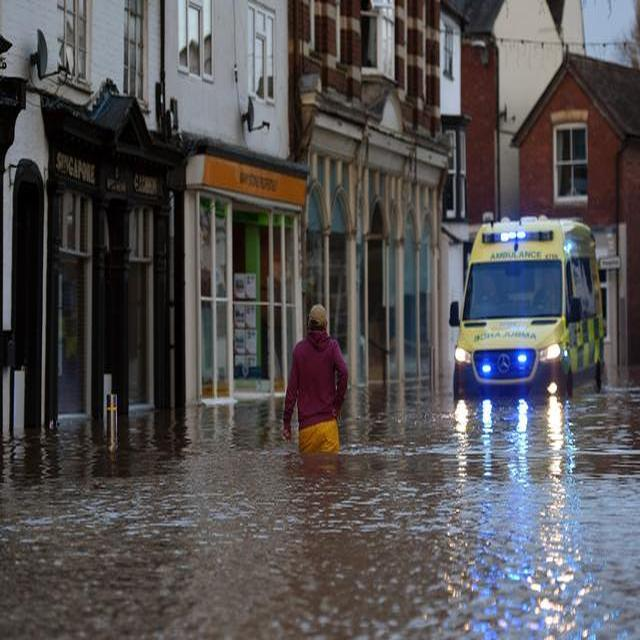Car-RiskLevel2: (447, 203, 623, 400)
Person-RiskLevel2: (270, 302, 357, 468)
